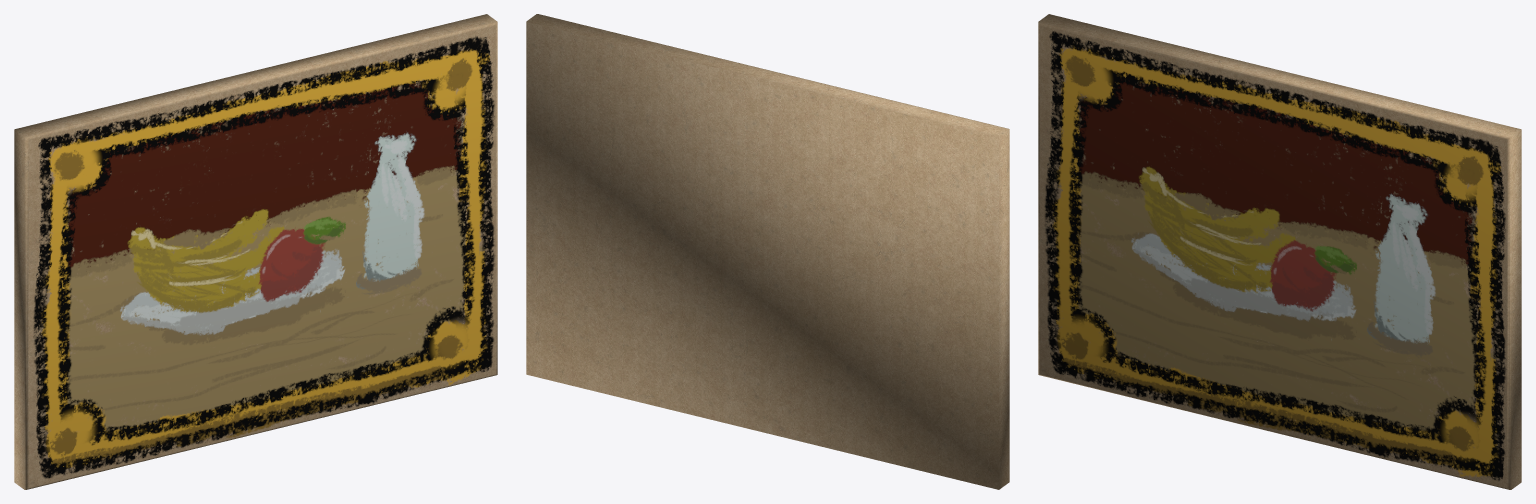
Rendered from 20s_Picframe1.fbx.
3 views of the same model, side by side, from view 1: azimuth 30°, elevation 25°; view 2: azimuth 150°, elevation 25°; view 3: azimuth 330°, elevation 25° (orthographic).
Parts seen in each view (by area): view 1: 20s_PicFrame1; view 2: 20s_PicFrame1; view 3: 20s_PicFrame1.
Boxes of the visible parts, x1,y1,x2,y2 form: 20s_PicFrame1: (14,14,497,489); 20s_PicFrame1: (526,14,1009,489); 20s_PicFrame1: (1038,14,1521,489).
Size of the model in its own units: 129 by 92.2 by 5.59.
